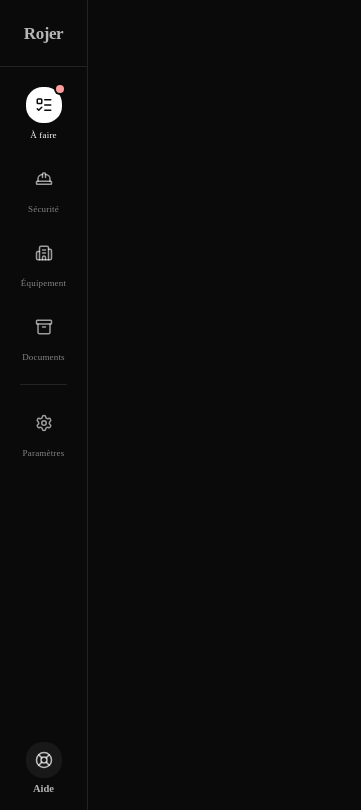
Test: AppSidebar — pastille du calendrier › calendrier à jour : le nombre de retards
Click the button "À faire".
click(44, 114)  # box x1=8 y1=79 x2=79 y2=149
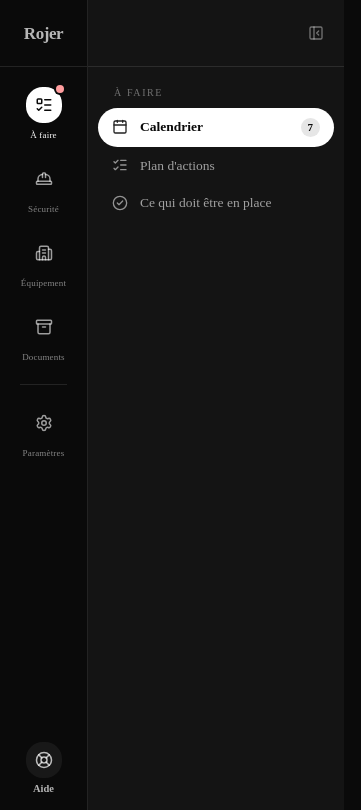
Now the link "Calendrier 7" is shown, box x1=98 y1=108 x2=334 y2=146
